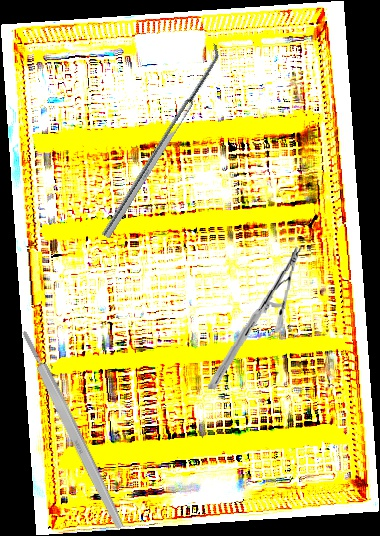Needle Holder: (208, 242, 302, 394)
Scalpel Handle: (18, 328, 127, 531)
Spatula Surgical: (94, 42, 227, 239)
